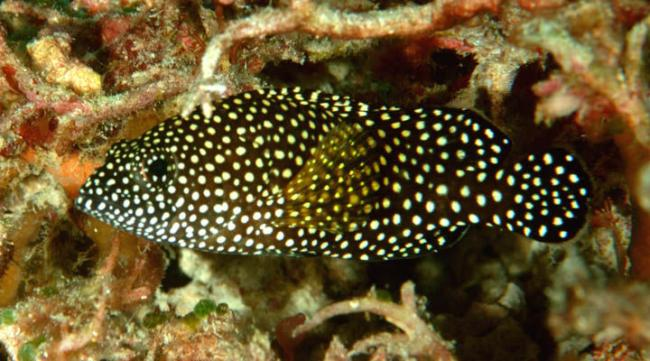fish: (74, 87, 594, 263)
